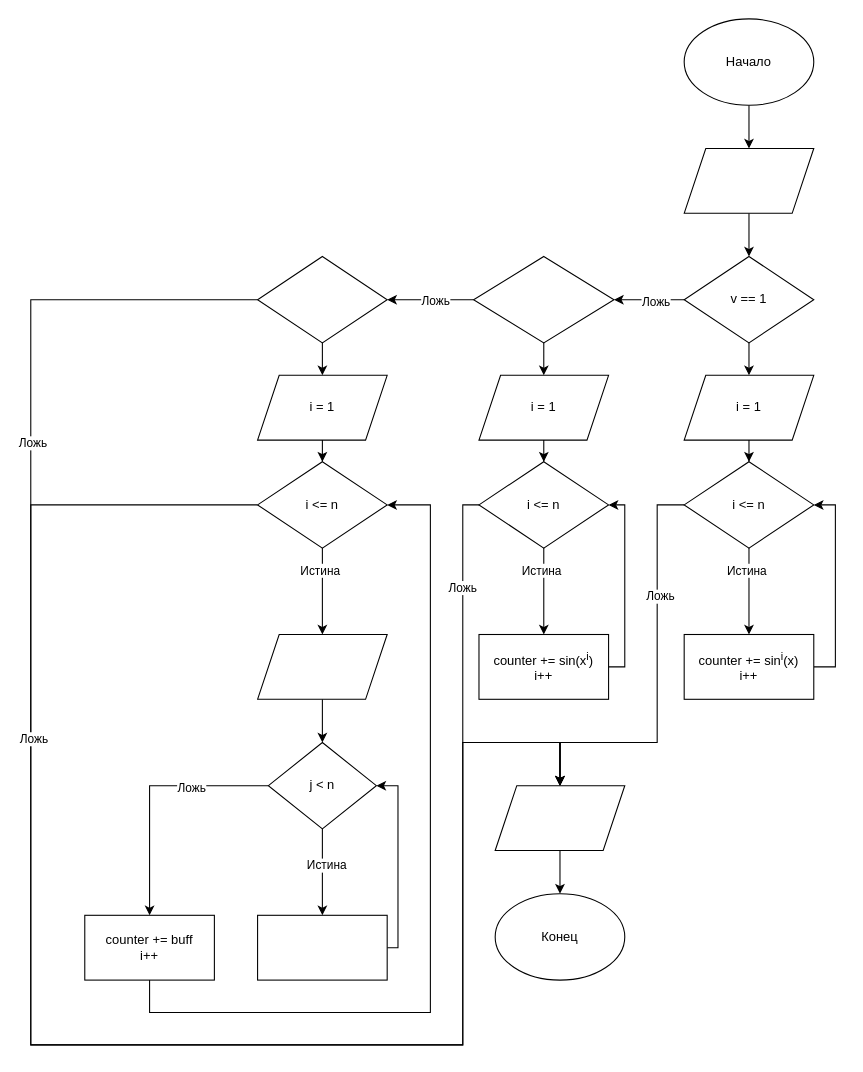
Some shapes in this 863 by 1072 pixel diagram are drawn without their labels. Each missing label, with the centre of its shape:
buff = sin(buff) j++: the point at 321,947
counter: the point at 559,817
j = 0 buff = x: the point at 321,666
v == 2: the point at 543,299
v == 3: the point at 321,299
v, n, x, counter: the point at 748,180
